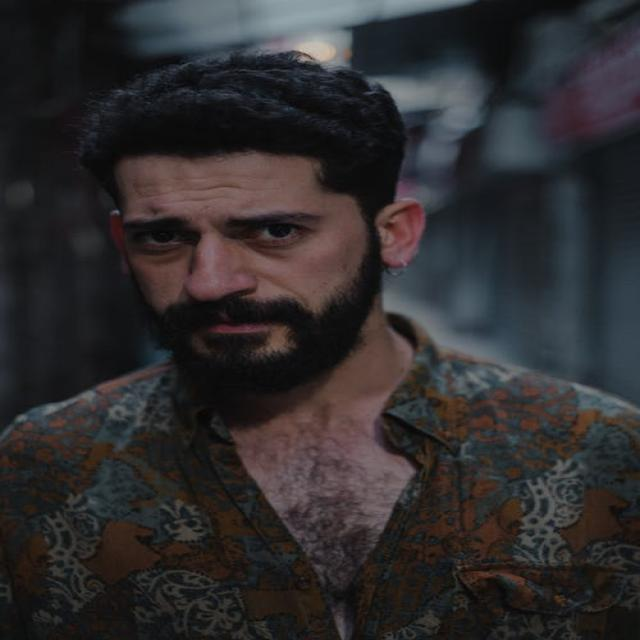Wrinkles: (159, 185, 255, 195), (166, 196, 227, 202), (236, 174, 277, 177), (199, 176, 225, 178), (173, 177, 199, 178)
